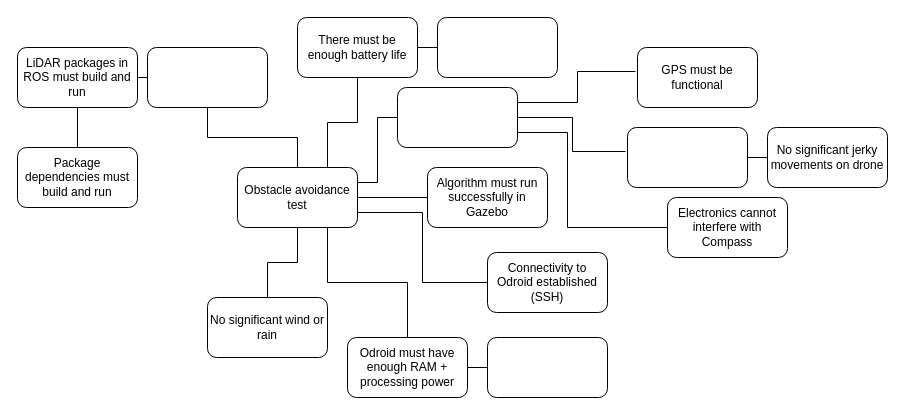
The diagram is 905 pixels wide and 415 high, and some of its shapes have lost their labels. Each missing label, with the centre of its shape:
IMU must be calibrated: the point at 687,157
LiDAR sensors must be operational: the point at 207,77
No bugs in code + efficient implementation: the point at 547,367
Pixhawk must be operational: the point at 457,117
Weather cannot be too cold: the point at 497,47
